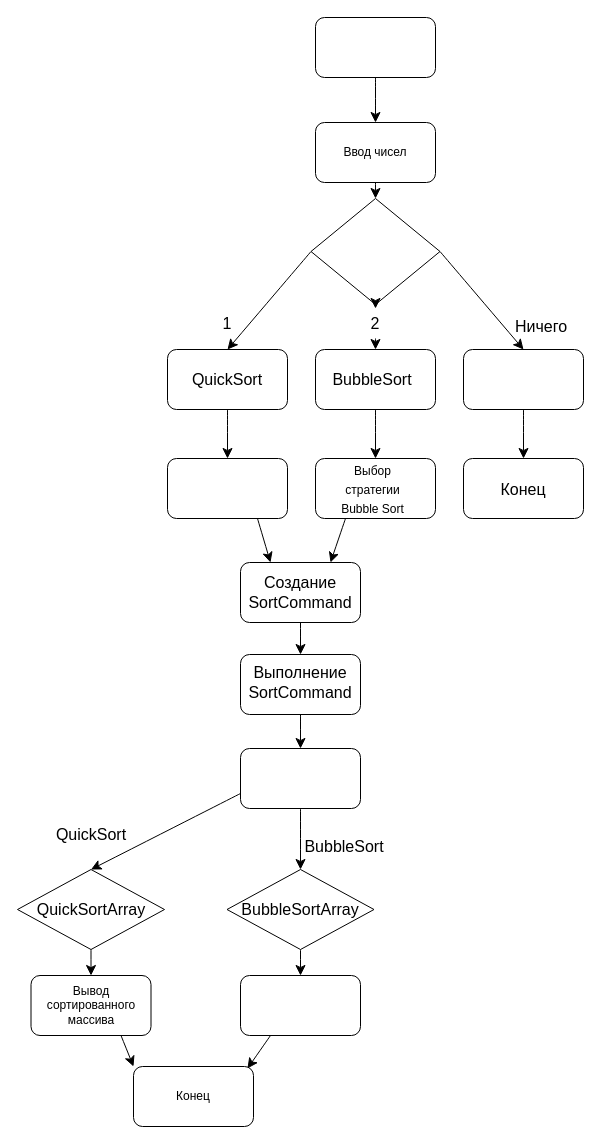
The diagram is 601 pixels wide and 1144 high, and some of its shapes have lost their labels. Here are the shapes that lost their labels. From the top down, the centre of each, then its label:
At (375,47): "Старт".
At (375,251): "Выбор стратегии сортировки".
At (523,379): "Ошибка".
At (227,488): "Выбор стратегии QuickSort".
At (300,778): "Sort Array".
At (300,1005): "Вывод сортированного масива".
